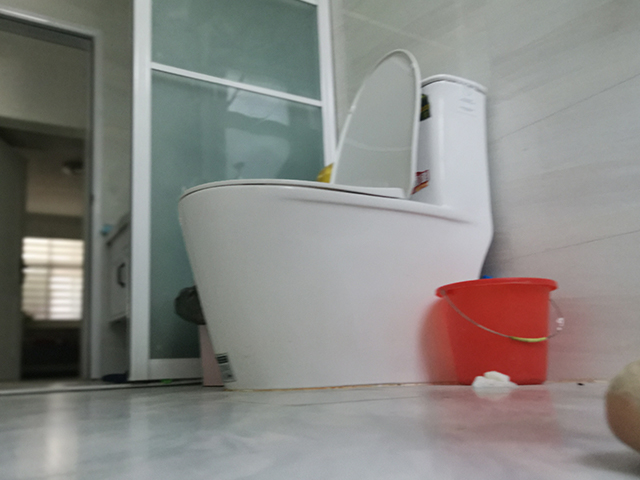closestool: (175, 47, 497, 392)
